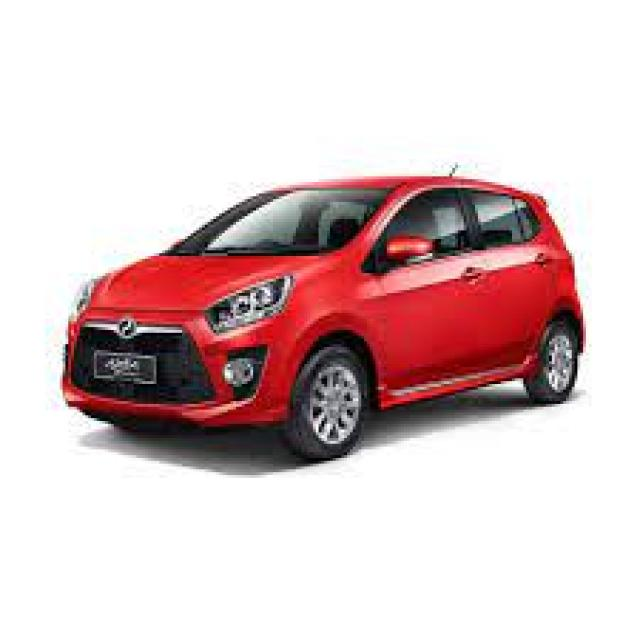PeroduaAxia: (57, 165, 586, 461)
